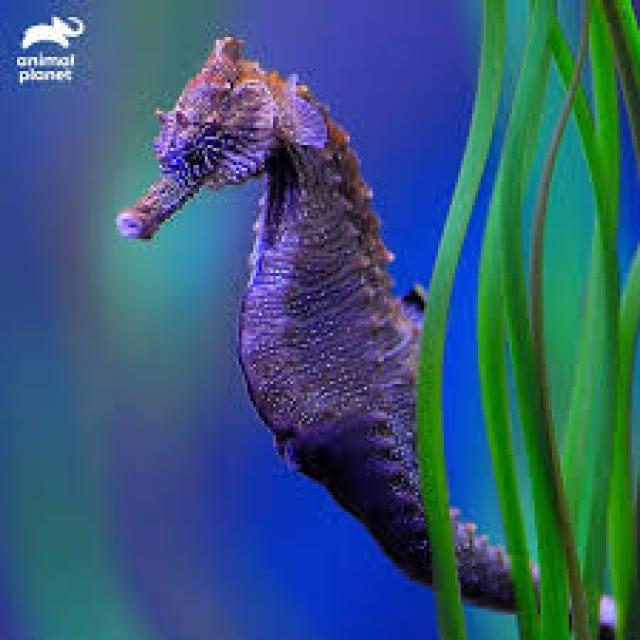SeaHorse: (117, 37, 438, 594), (452, 514, 515, 614)
